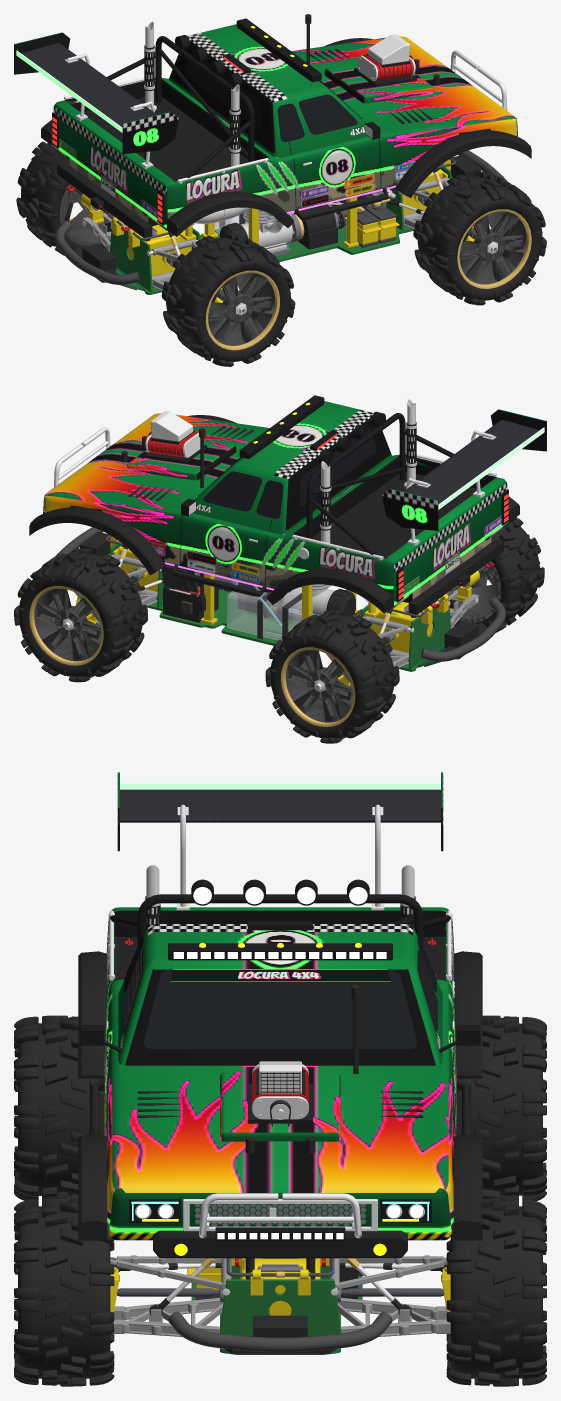
File: monster_truck_nitro_LOD1_1.glb
The picture shows the model from 3 angles, top to bottom: view 1: azimuth 30°, elevation 25°; view 2: azimuth 150°, elevation 25°; view 3: azimuth 270°, elevation 25°; orthographic projection. The views are drawn at different scales.
Parts seen in each view (by area): view 1: Carroceria_Casco, Llanta_Del_Der, Llanta_Tras_Der, Carroceria_Cabina, Aleron, Llanta_Tras_Izq, Rin_Tras_Der, Rin_Del_Der, Carroceria_Ventanas, Aleron_Aletas, Barra_Antivuelco, Guardafango_Del_Der (+32 smaller); view 2: Carroceria_Casco, Carroceria_Cabina, Llanta_Tras_Izq, Llanta_Del_Izq, Aleron, Llanta_Tras_Der, Carroceria_Ventanas, Rin_Del_Izq, Rin_Tras_Izq, Aleron_Aletas, Guardafango_Del_Izq, Chasis_Placa (+35 smaller); view 3: Carroceria_Casco, Carroceria_Ventanas, Carroceria_Cabina, Llanta_Del_Izq, Llanta_Del_Der, Llanta_Tras_Der, Llanta_Tras_Izq, Aleron, Defensas, Capo_Bulto, Mamparo_Placa_Del_Ext, Parachoques_Del.001 (+32 smaller).
Boxes of the visible parts, x1,y1,x2,y2 form: Carroceria_Casco: (52,36,517,229); Llanta_Del_Der: (413,171,546,305); Llanta_Tras_Der: (161,232,295,366); Carroceria_Cabina: (169,24,367,158); Aleron: (21,43,157,127); Llanta_Tras_Izq: (16,141,110,255); Rin_Tras_Der: (208,273,275,345); Rin_Del_Der: (459,211,526,284); Carroceria_Ventanas: (184,51,362,142); Aleron_Aletas: (14,32,178,153); Barra_Antivuelco: (106,36,254,178); Guardafango_Del_Der: (395,130,531,198); Carroceria_Casco: (43,413,508,606); Carroceria_Cabina: (193,401,392,534); Llanta_Tras_Izq: (265,609,399,743); Llanta_Del_Izq: (14,548,147,682); Aleron: (403,420,539,504); Llanta_Tras_Der: (450,517,544,632); Carroceria_Ventanas: (198,428,376,518); Rin_Del_Izq: (34,588,101,661); Rin_Tras_Izq: (285,650,352,722); Aleron_Aletas: (382,409,546,530); Guardafango_Del_Izq: (29,507,165,574); Chasis_Placa: (108,553,445,671); Carroceria_Casco: (104,907,456,1240); Carroceria_Ventanas: (124,935,436,1048); Carroceria_Cabina: (118,924,442,1065); Llanta_Del_Izq: (446,1198,546,1386); Llanta_Del_Der: (14,1198,114,1386); Llanta_Tras_Der: (14,1015,104,1200); Llanta_Tras_Izq: (456,1015,546,1200); Aleron: (120,789,440,822); Defensas: (153,1230,407,1258); Capo_Bulto: (220,1071,340,1141); Mamparo_Placa_Del_Ext: (220,1279,340,1335); Parachoques_Del.001: (168,1311,392,1352).
Size of the model in its own units: 0.6656 by 0.3665 by 0.4927.
40 materials, 4 textured.
